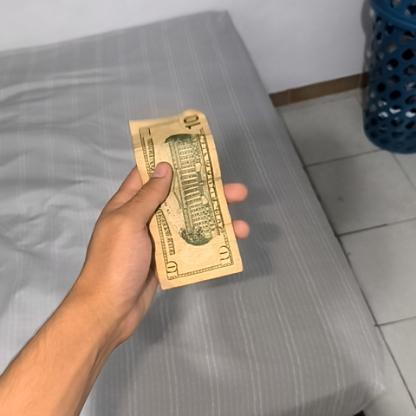ten-back: (124, 108, 247, 294)
